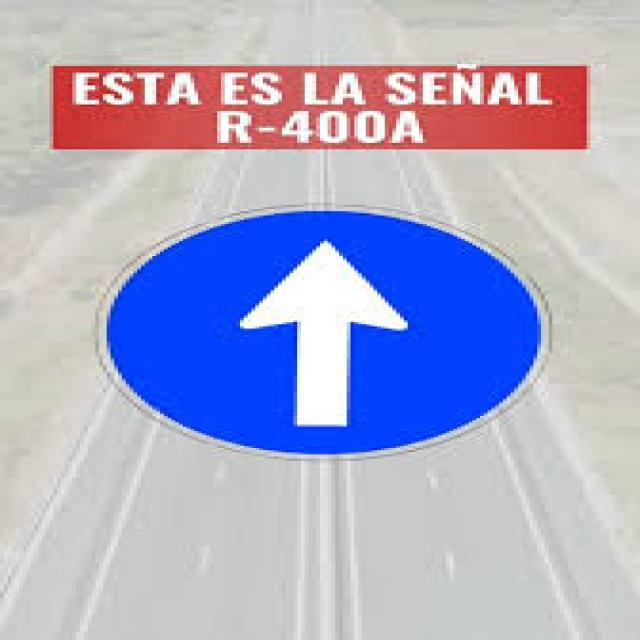STRAIGHT: (103, 213, 541, 452)
